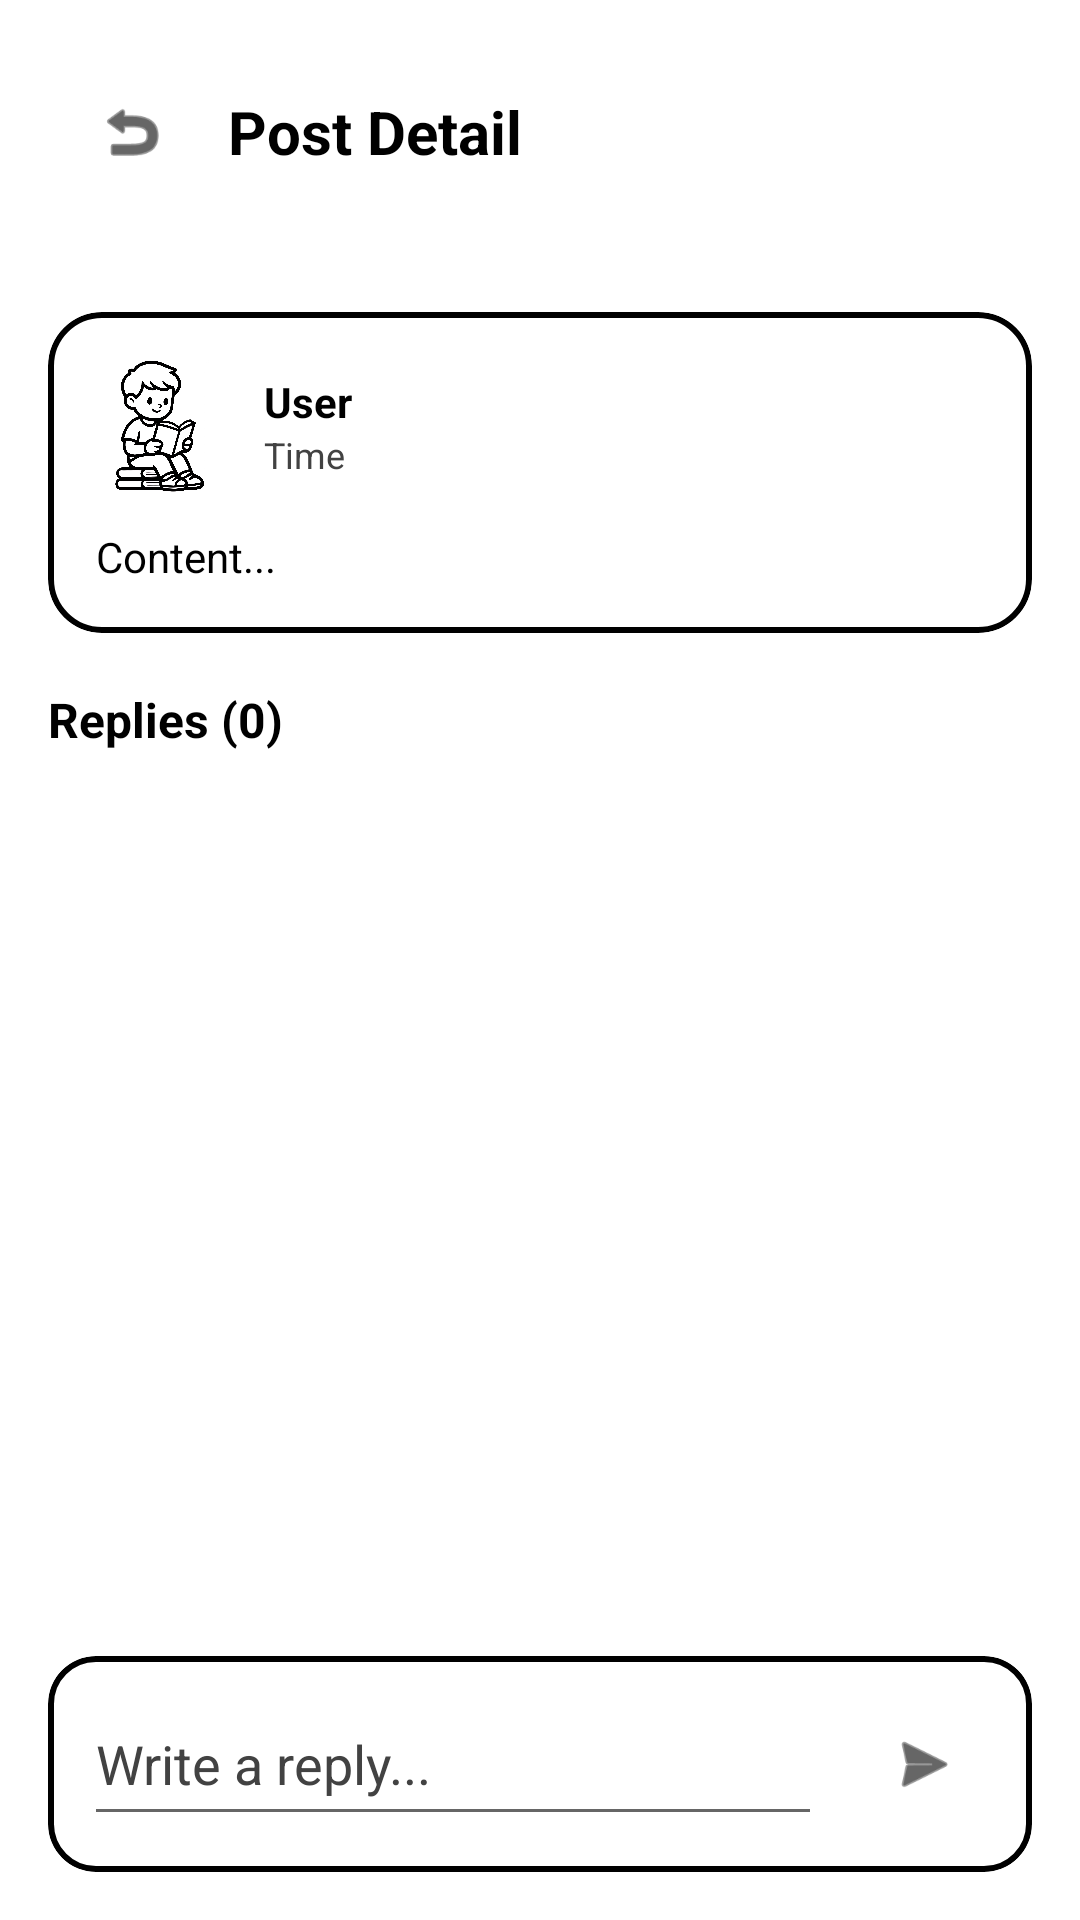

Icons on this 1080 × 1920 Android screen, each with its box as bbox=[x1, y1, x2, y2]:
hero student: bbox=[115, 361, 204, 492]
revert: bbox=[107, 109, 159, 156]
send: bbox=[901, 1742, 948, 1787]
